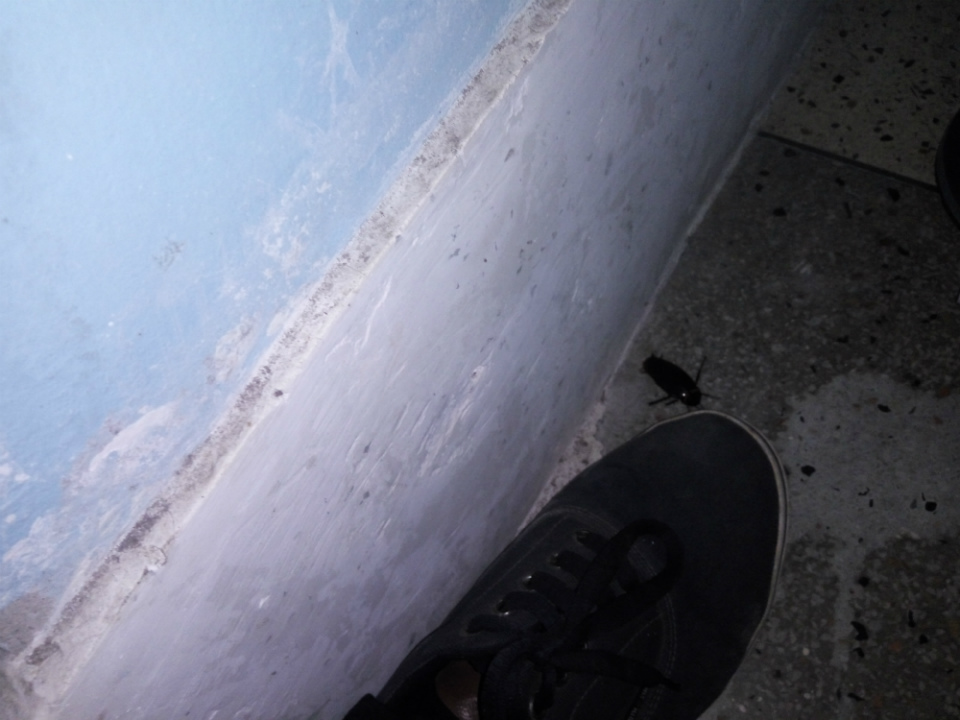cockroach: (610, 307, 728, 410)
